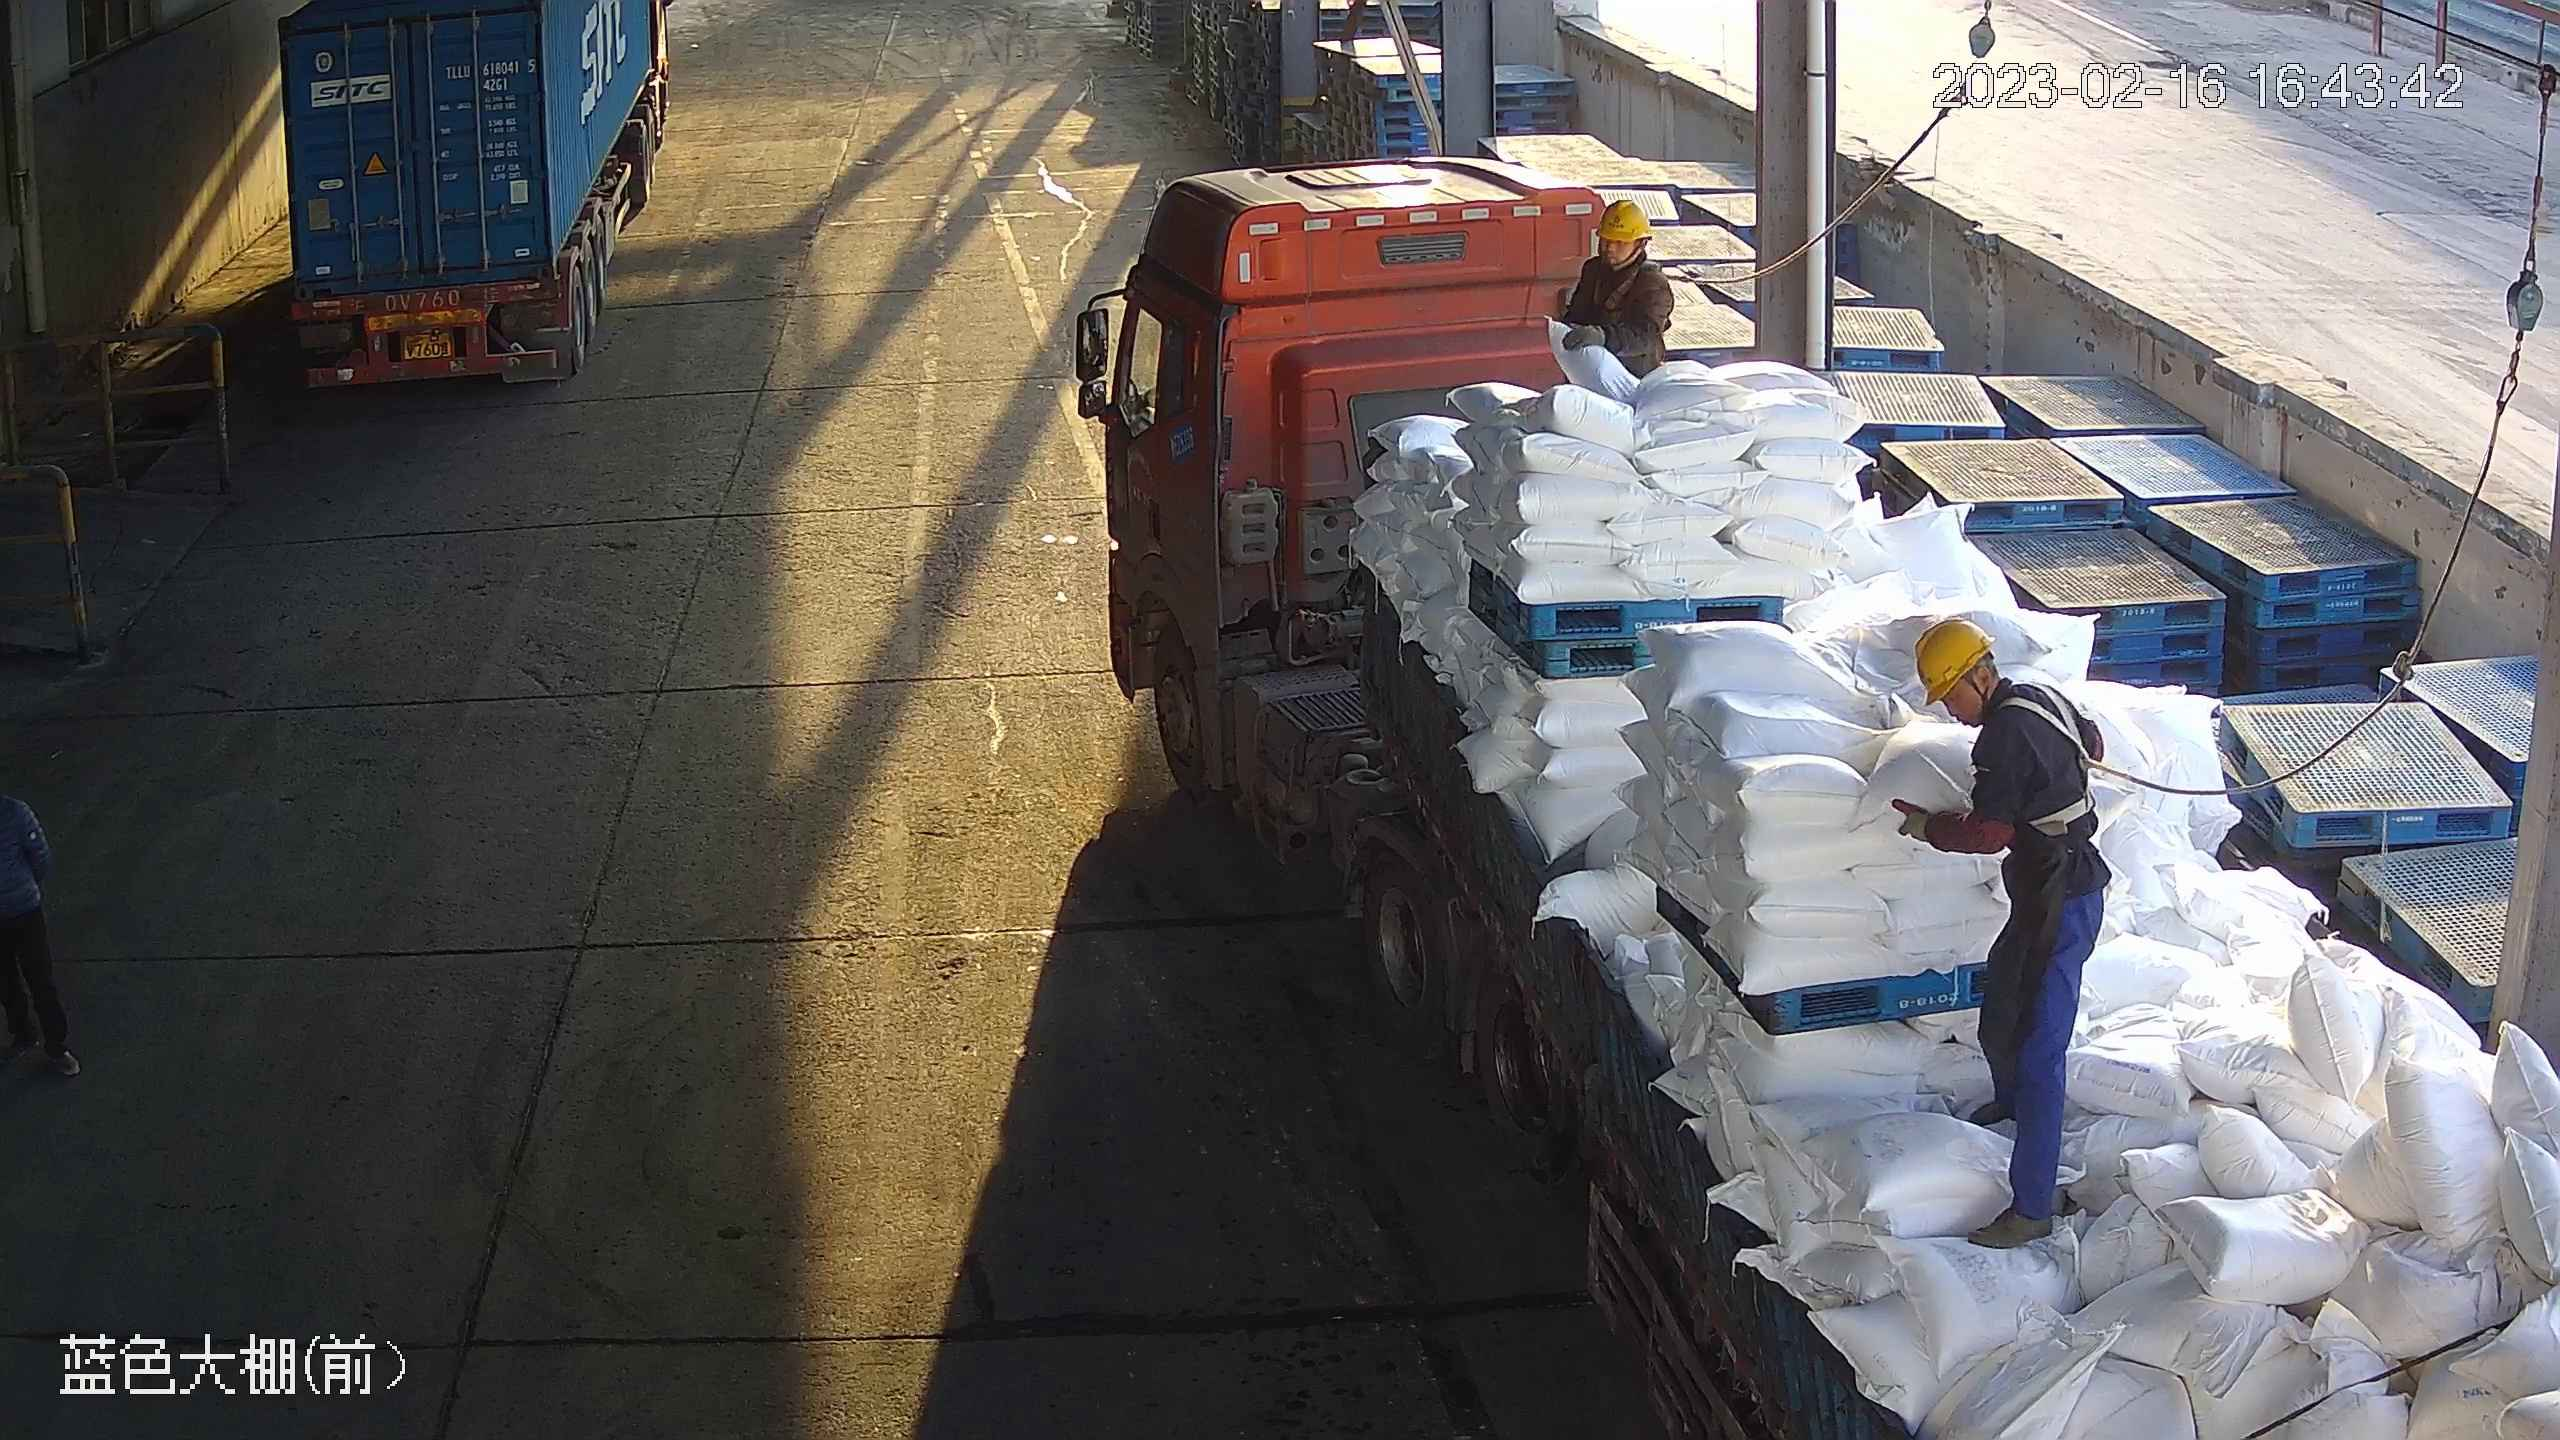belt: (1995, 683, 2116, 835), (1591, 258, 1661, 310)
head: (1889, 616, 2089, 773), (1577, 198, 1669, 300)
helmet: (1914, 618, 1996, 706), (1595, 199, 1650, 241)
people: (1889, 617, 2116, 1258)
truck: (1078, 157, 2560, 1440), (274, 1, 669, 392)
